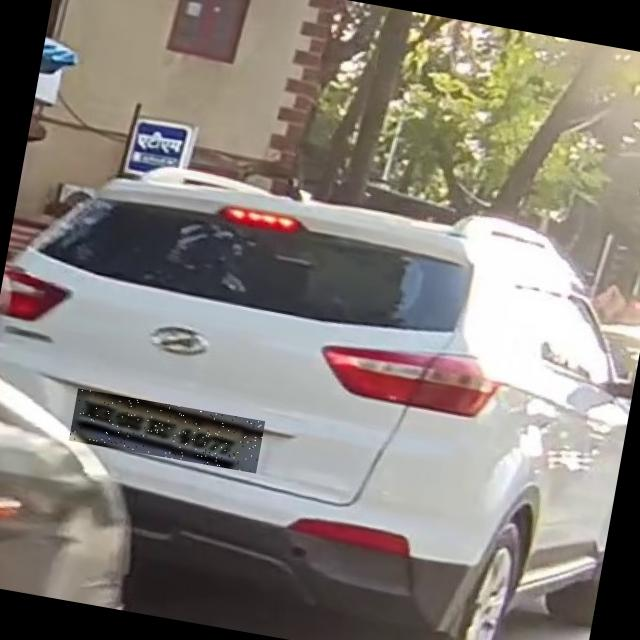Plate: (70, 389, 266, 474)
